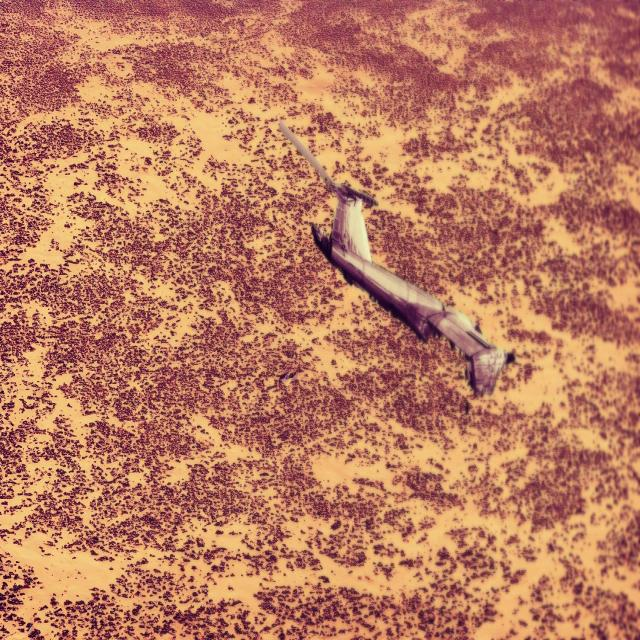airplane: (278, 119, 514, 398)
